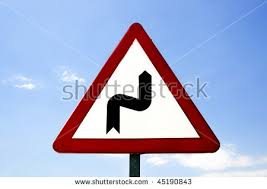Double_bend_right: (53, 22, 221, 153)
